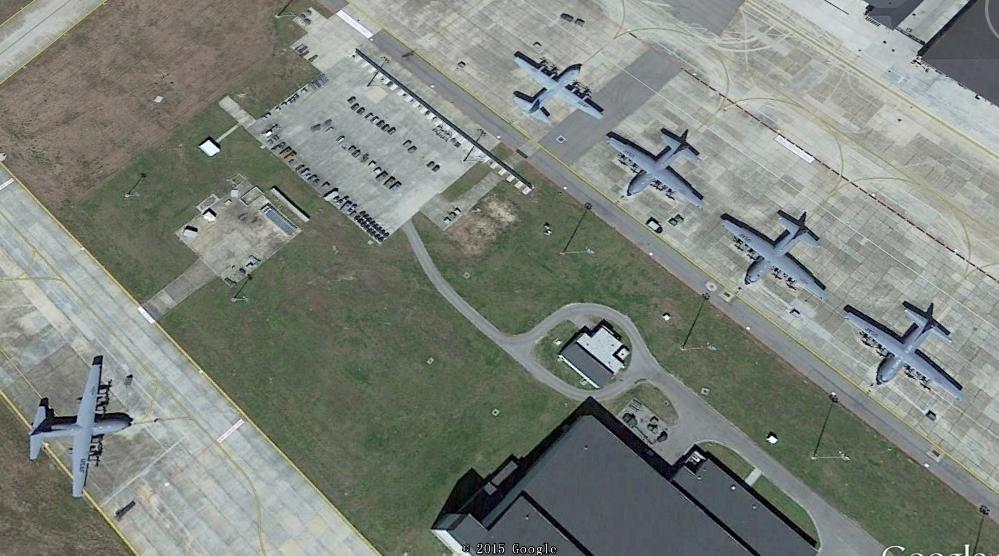C-130: (21, 351, 131, 502), (841, 293, 966, 398), (717, 203, 832, 302), (601, 122, 707, 212), (505, 45, 607, 130)
